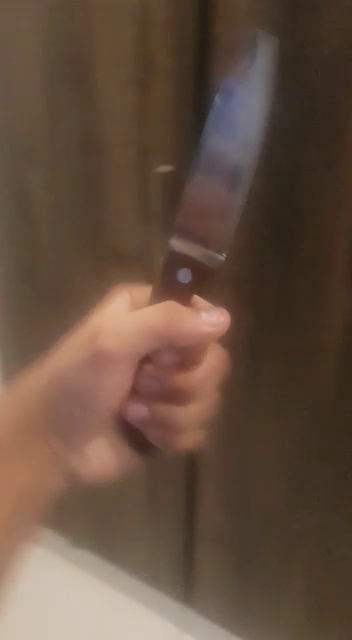knife: (109, 17, 280, 477)
